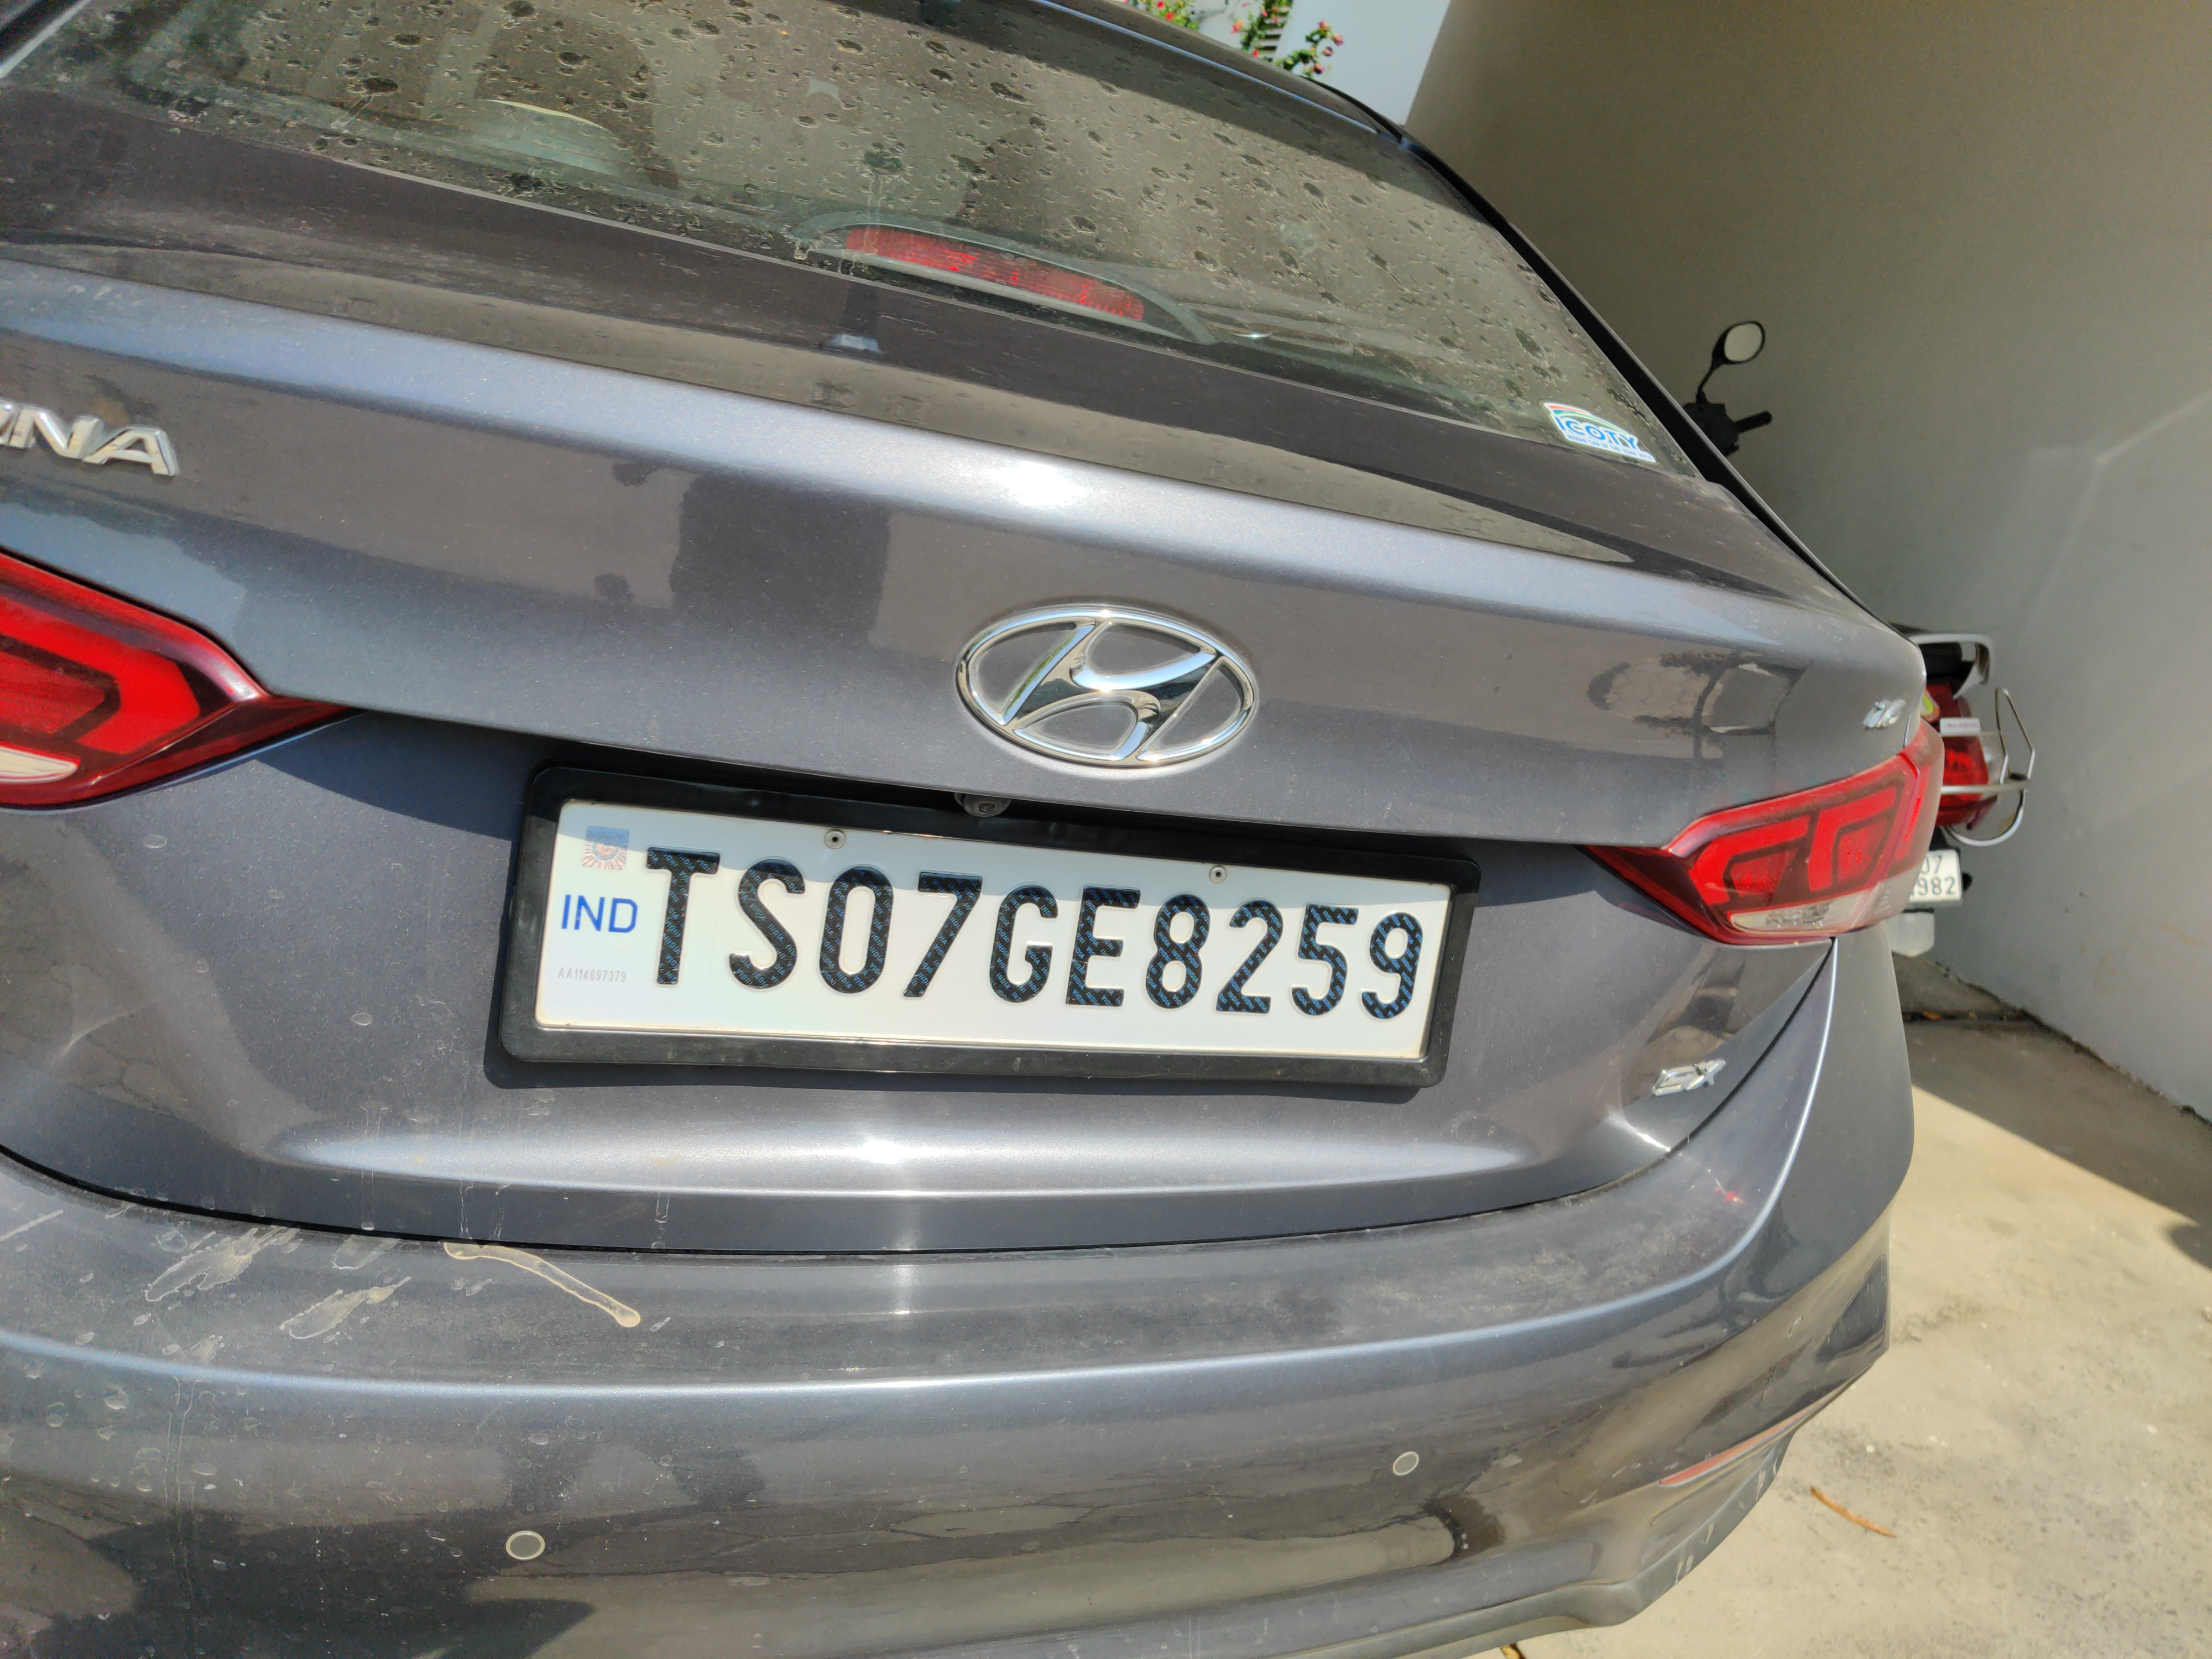plate: (447, 734, 1493, 1117)
